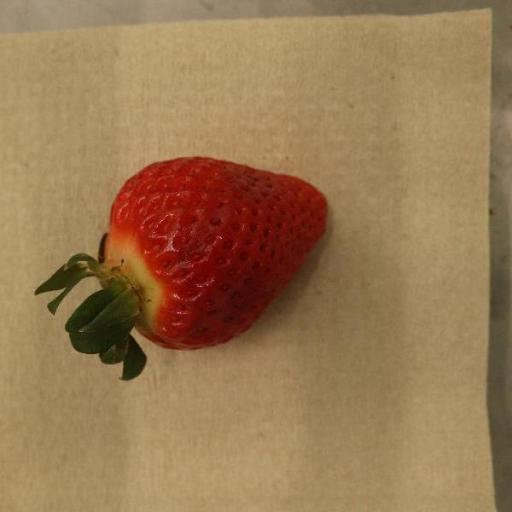Strawberry: (35, 157, 329, 381)
